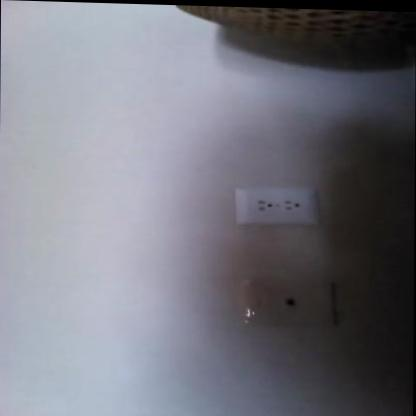OUTLET: (233, 185, 320, 226)
